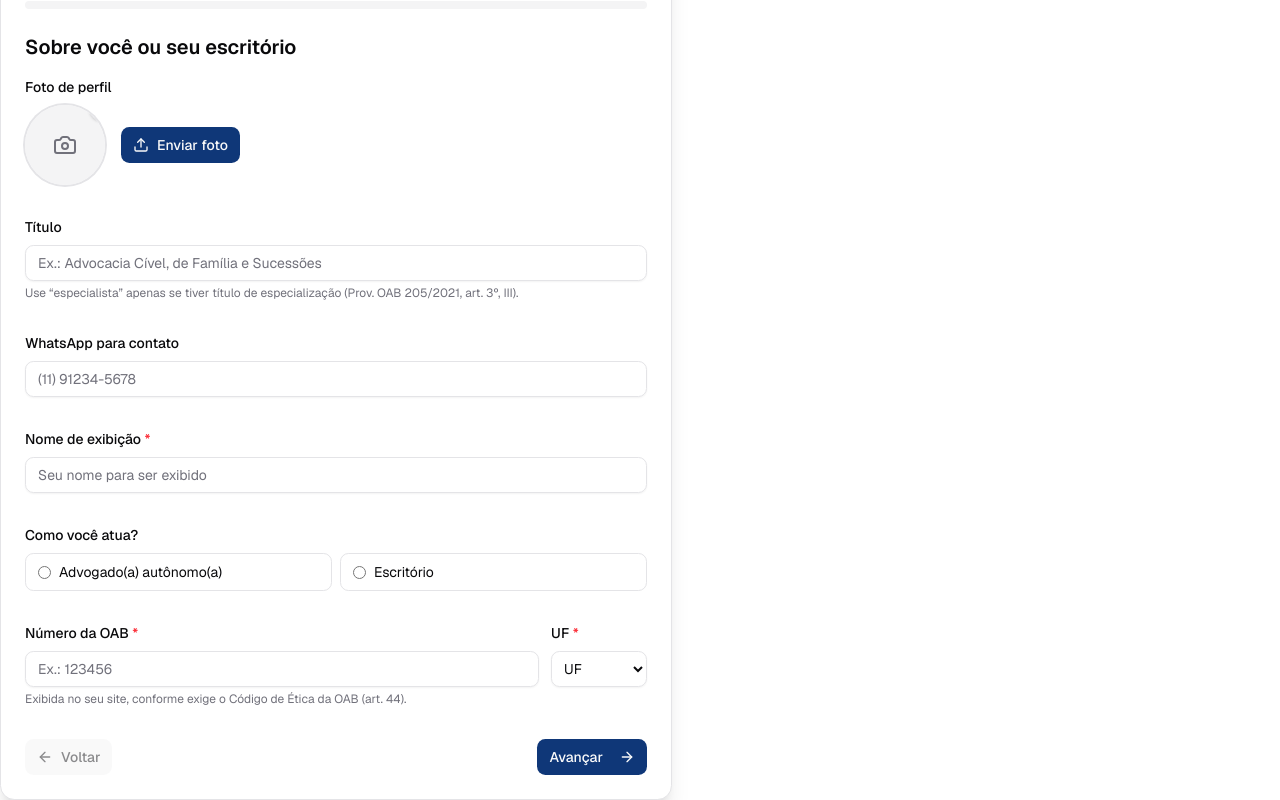
ProfileForm › step validation › blocks step 1 when the display name is empty
(page scrolled)
Click the button "Avançar": (592, 757) x1=538 y1=739 x2=647 y2=775
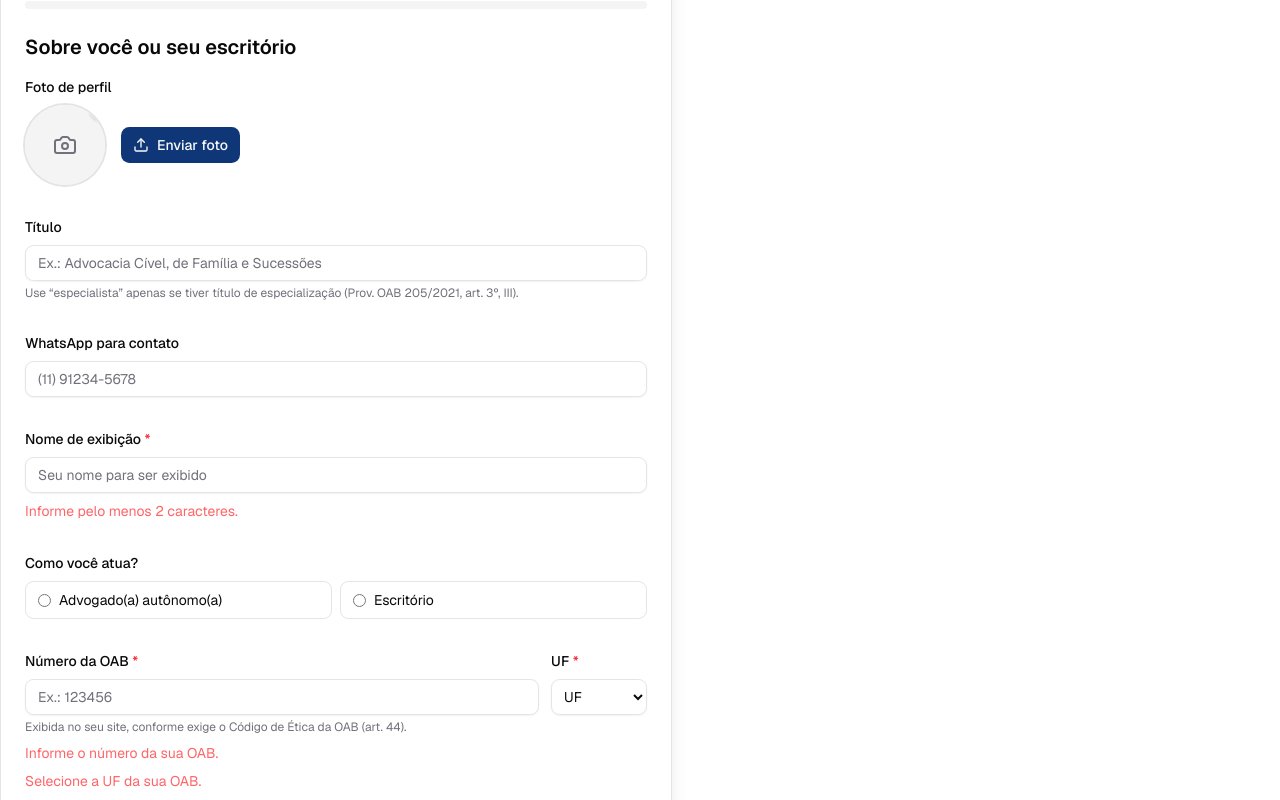
Check: the heading "Sobre você ou seu escritório" is shown, box x1=25 y1=34 x2=296 y2=60
Check: the text "Informe pelo menos 2 caracteres." is shown, box x1=25 y1=502 x2=238 y2=520
